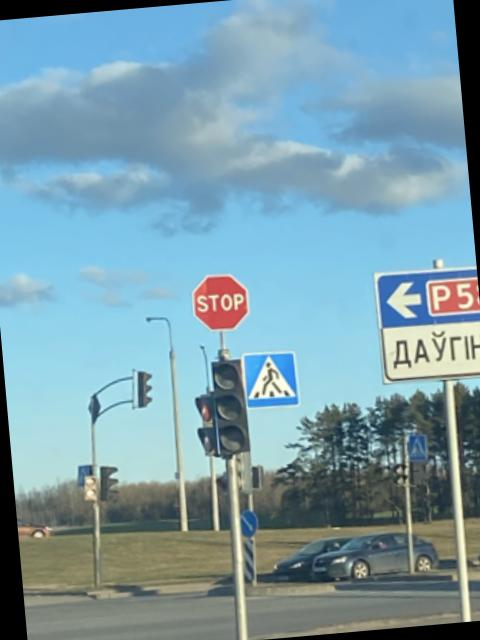crosswalk-sign: (241, 347, 302, 411), (408, 437, 428, 462)
